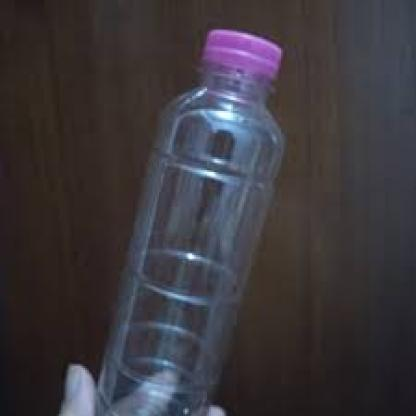Glass Bottle: (90, 29, 283, 416)
